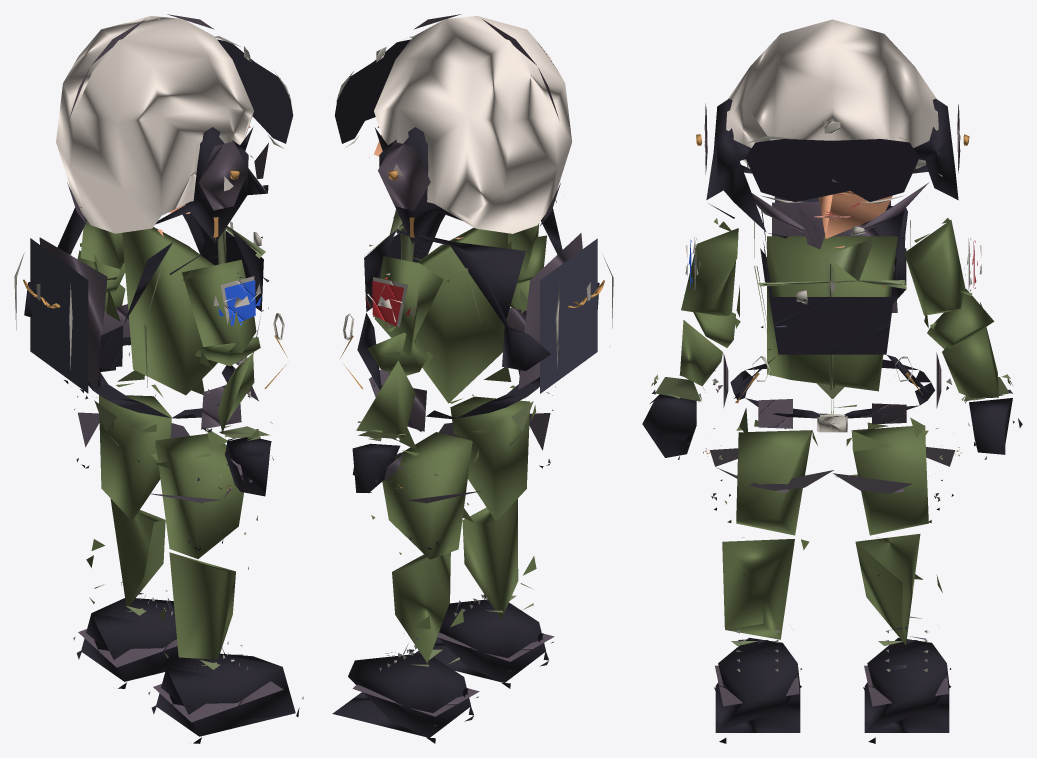
The picture shows the model from 3 angles, left to right: view 1: azimuth 30°, elevation 25°; view 2: azimuth 150°, elevation 25°; view 3: azimuth 270°, elevation 25°; orthographic projection.
Visible parts, largest first — view 1: head, torso, footR, legR, legL, footL, shinR, armR, hip, shinL, foreArmR, handR (+2 smaller); view 2: head, torso, footL, legL, legR, footR, shinR, shinL, armL, foreArmL, hip, handL (+2 smaller); view 3: head, torso, legR, legL, footL, footR, shinR, hip, foreArmL, shinL, armL, armR (+3 smaller).
Boxes of the visible parts, x1,y1,x2,y2 form: head: (56,14,293,275); torso: (14,207,287,398); footR: (148,645,303,743); legR: (145,433,257,558); legL: (74,383,189,520); footL: (73,581,228,688); shinR: (159,532,248,669); armR: (182,255,261,352); hip: (71,304,258,462); shinL: (86,499,165,615); foreArmR: (195,337,272,440); handR: (224,437,273,496); head: (334,14,571,243); torso: (340,208,613,403); footL: (332,633,479,743); legL: (371,432,482,559); legR: (438,385,553,521); footR: (414,594,554,688); shinR: (462,499,536,619); shinL: (392,552,463,666); armL: (365,255,449,358); foreArmL: (356,326,432,441); hip: (369,308,555,450); handL: (352,438,404,492); head: (696,19,969,249); torso: (734,196,929,407); legR: (703,420,833,535); legL: (833,422,961,535); footL: (863,626,951,743); footR: (714,630,801,743); shinR: (722,537,809,645); hip: (712,352,951,477); foreArmL: (924,289,1012,401); shinL: (855,534,942,645); armL: (901,218,983,328); armR: (681,218,761,315).
Size of the model in its own units: 0.6126 by 1.8 by 0.9091.
